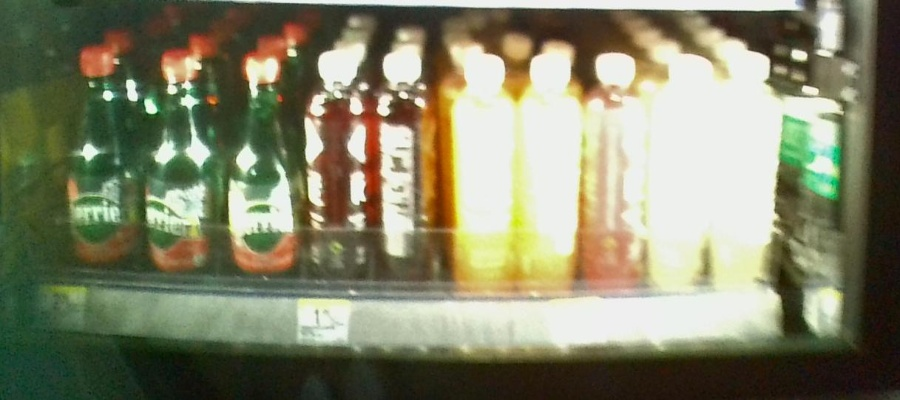bottle: (64, 39, 140, 274), (146, 44, 220, 275), (225, 46, 299, 276), (303, 53, 376, 283), (583, 48, 652, 288), (447, 51, 515, 284), (724, 43, 787, 289), (659, 44, 720, 288), (521, 51, 581, 287), (383, 45, 440, 284)
